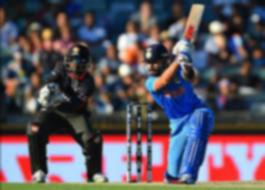batsman: (124, 2, 224, 190)
